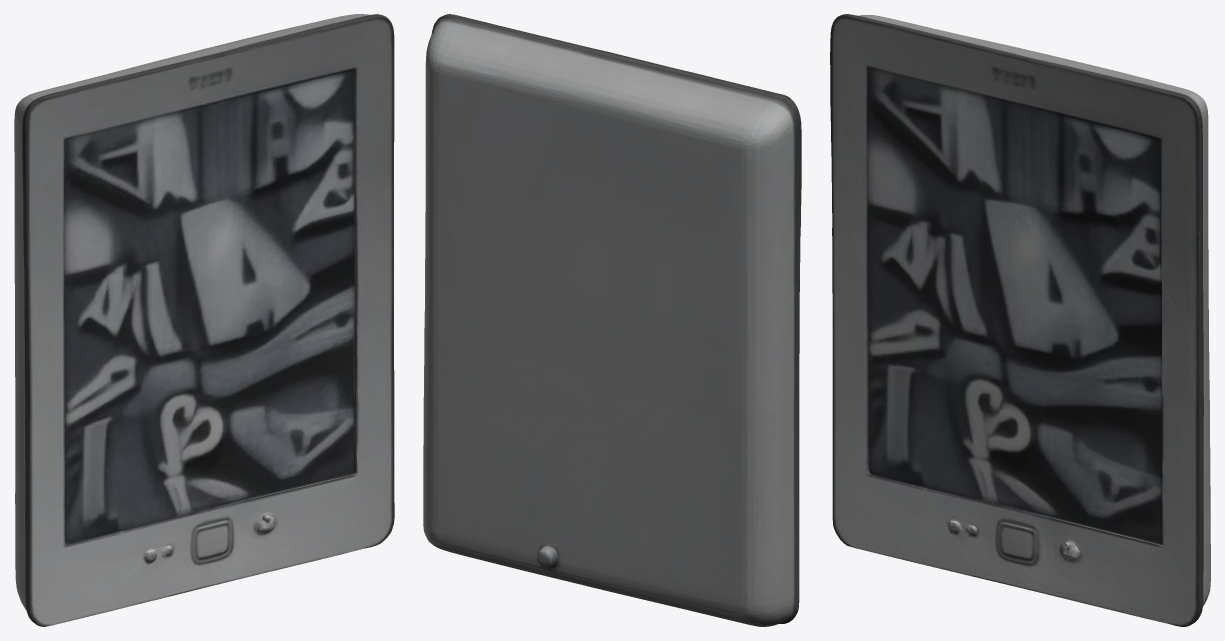
3 views of the same model, side by side, from view 1: azimuth 30°, elevation 25°; view 2: azimuth 150°, elevation 25°; view 3: azimuth 330°, elevation 25° (orthographic).
Visible parts, largest first — view 1: geometry_0; view 2: geometry_0; view 3: geometry_0.
Part boxes in pixels (x1,y1,x2,y2): geometry_0: (14,14,394,626); geometry_0: (423,14,801,626); geometry_0: (830,14,1210,626).
Bounding box in the file's own units: 0.7304 × 1 × 0.1291.
Materials: 1 (1 with a texture image).
